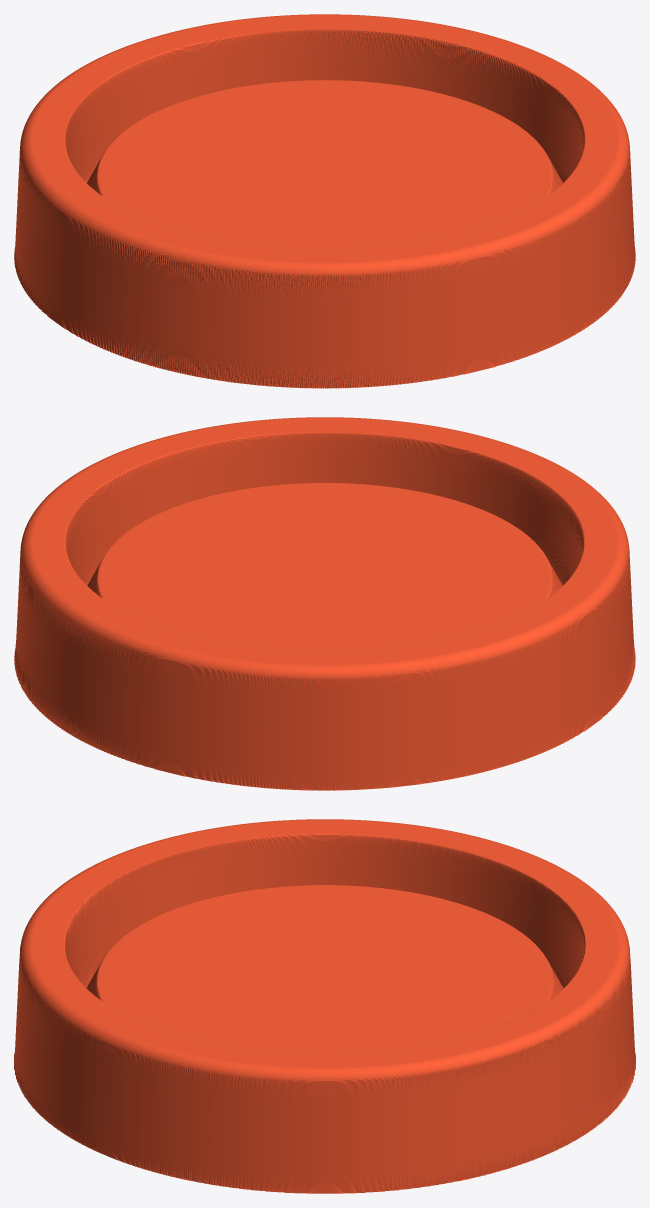
Rendered from mold.glb.
3 views of the same model, one above another, from view 1: azimuth 30°, elevation 25°; view 2: azimuth 150°, elevation 25°; view 3: azimuth 270°, elevation 25° (orthographic).
Visible parts, largest first — view 1: geometry_0; view 2: geometry_0; view 3: geometry_0.
Boxes of the visible parts, x1=… form: geometry_0: x1=14, y1=14, x2=635, y2=388; geometry_0: x1=14, y1=417, x2=635, y2=790; geometry_0: x1=14, y1=819, x2=635, y2=1193.
Bounding box in the file's own units: 0.1219 × 0.0256 × 0.1219.
